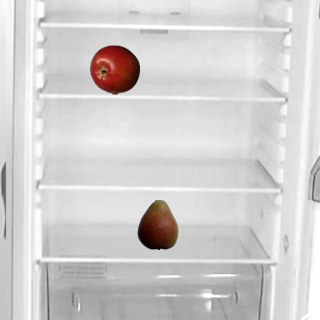Apple Braeburn: (89, 44, 139, 94)
Pear Forelle: (132, 199, 182, 249)
